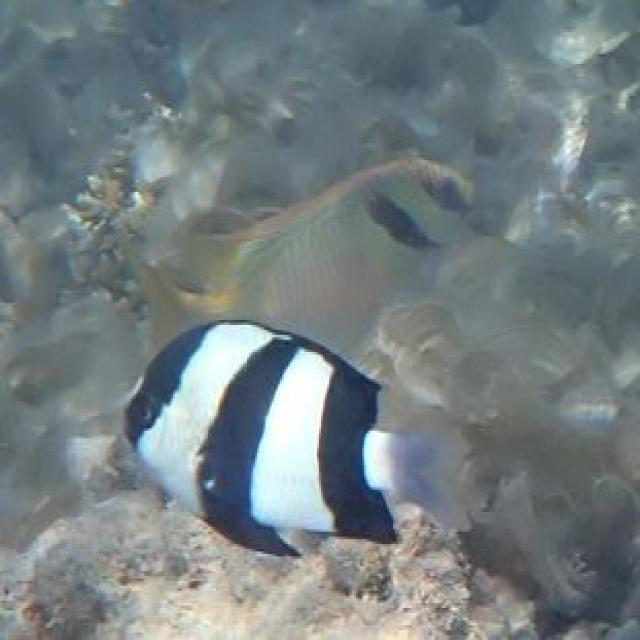ThreeStripedDamselfish: (115, 320, 467, 559)
